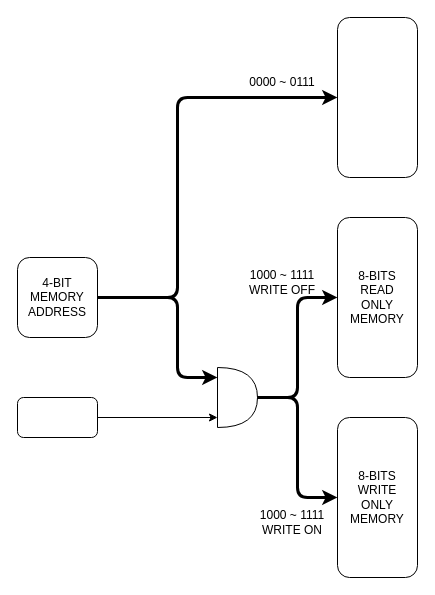
The diagram is 435 pixels wide and 595 high, and some of its shapes have lost their labels. The shapes that lost their labels are listed below. From the top down, each one's centre as x and y in pixels, then its label:
At (x=377, y=97): "8-BITS RANDOM ACCESS MEMORY".
At (x=57, y=417): "WRITE SIGNAL".
